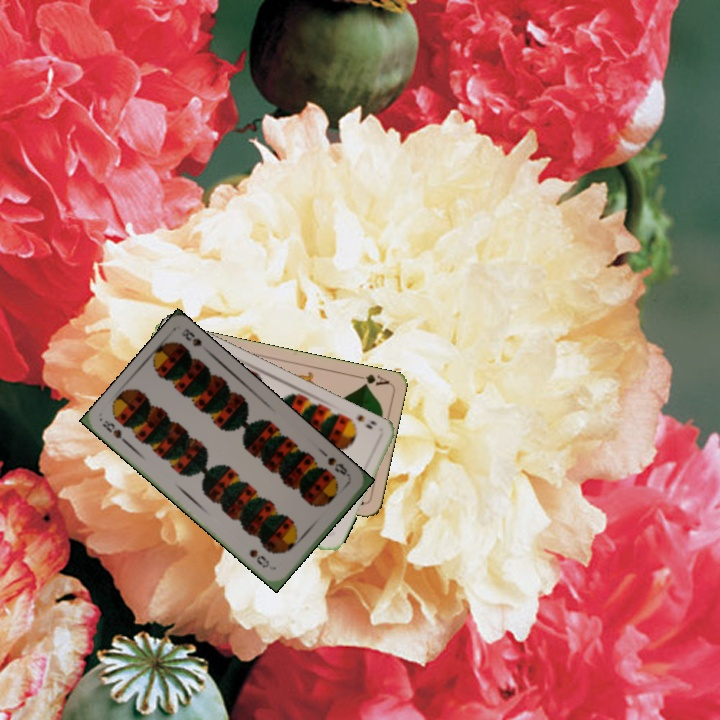GA: (351, 370, 391, 389)
S8: (98, 416, 133, 449), (323, 453, 354, 486)
S9: (351, 411, 380, 432)
